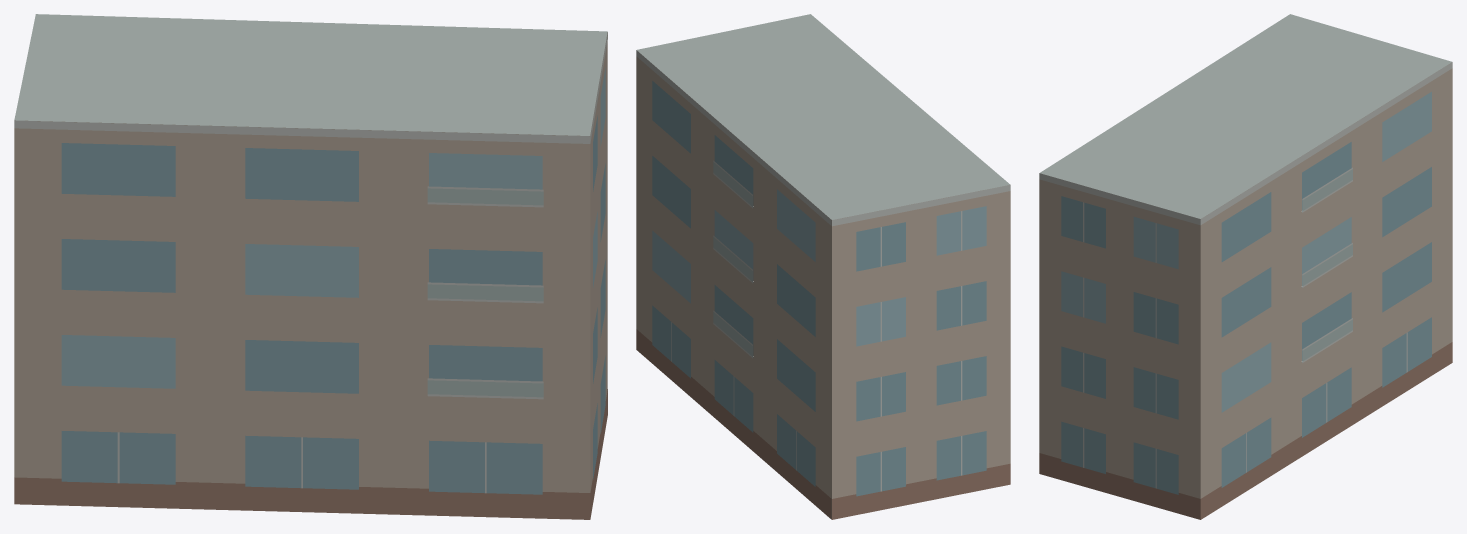
Rendered from survey-upis-32952557.glb.
The picture shows the model from 3 angles, left to right: view 1: azimuth 30°, elevation 25°; view 2: azimuth 150°, elevation 25°; view 3: azimuth 270°, elevation 25°; orthographic projection. The views are drawn at different scales.
Parts seen in each view (by area): view 1: survey-upis-32952557.tmp; view 2: survey-upis-32952557.tmp; view 3: survey-upis-32952557.tmp.
Boxes of the visible parts, x1,y1,x2,y2 form: survey-upis-32952557.tmp: (14,14,607,519); survey-upis-32952557.tmp: (636,14,1010,519); survey-upis-32952557.tmp: (1039,14,1452,519).
Bounding box in the file's own units: 17.21 × 11.76 × 14.65.
